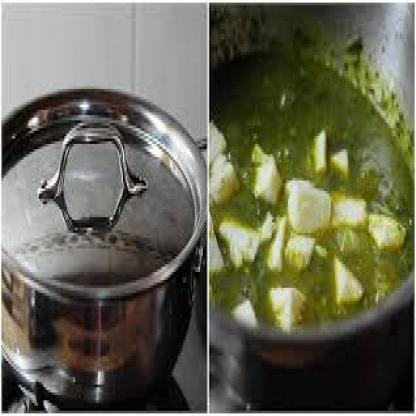palak_paneer: (210, 49, 414, 332)
